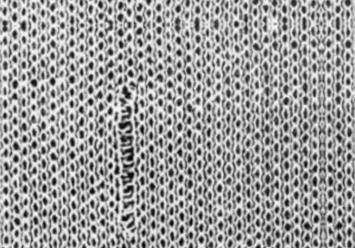slub: (113, 87, 142, 240)
